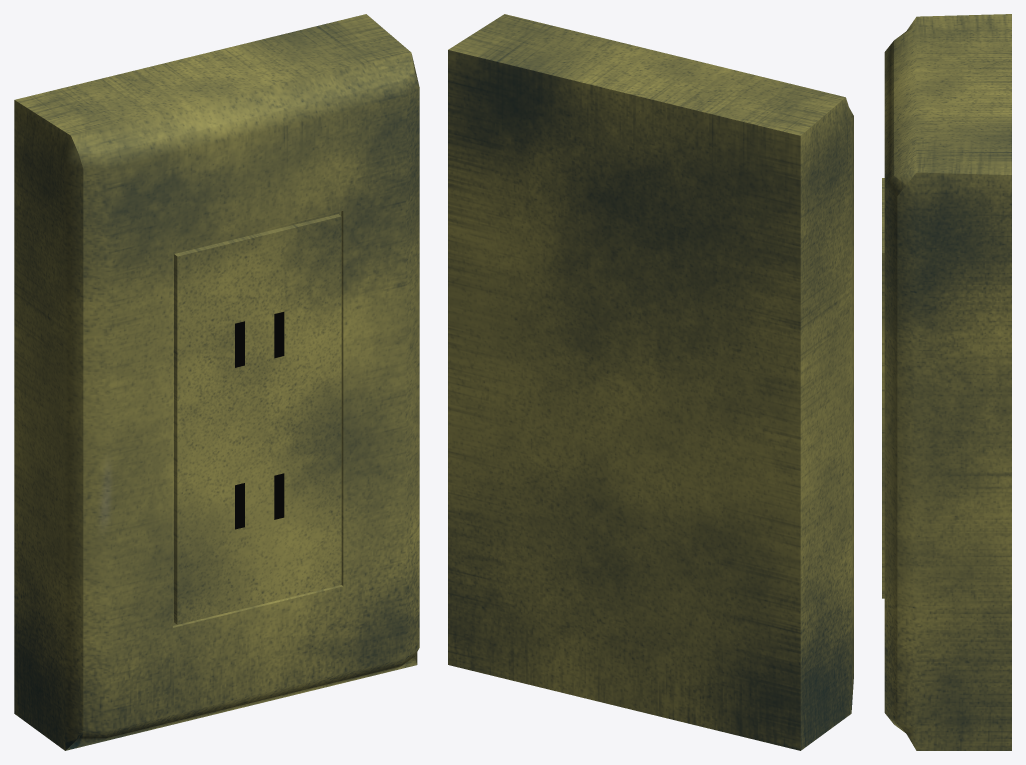
File: object_outlet.fbx
3 views of the same model, side by side, from view 1: azimuth 30°, elevation 25°; view 2: azimuth 150°, elevation 25°; view 3: azimuth 270°, elevation 25° (orthographic). The views are drawn at different scales.
Parts seen in each view (by area): view 1: cubea, cubeb; view 2: cubea; view 3: cubea, cubeb.
Boxes of the visible parts, x1=… form: cubea: x1=14, y1=14, x2=419, y2=750; cubeb: x1=174, y1=214, x2=341, y2=624; cubea: x1=448, y1=14, x2=853, y2=750; cubea: x1=884, y1=14, x2=1011, y2=750; cubeb: x1=882, y1=178, x2=884, y2=598.
Size of the model in its own units: 0.15 by 0.25 by 0.051.
